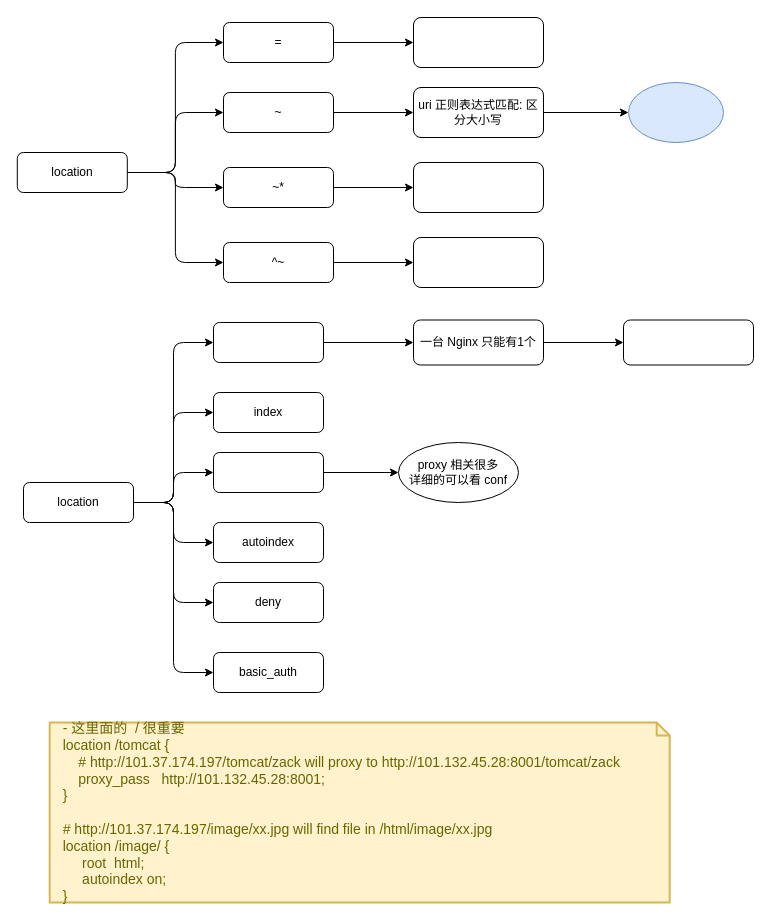
Some shapes in this 772 by 922 pixel diagram are drawn without their labels. The box of each missing label's shape, as (x1, y1, x2, y2) in pixels:
proxy_pass: (212, 452, 324, 492)
root: (212, 322, 324, 362)
uri reg 不区分大小写: (412, 162, 544, 212)
uri 完全匹配: (412, 16, 544, 68)
~(.*)\.avi$: (628, 82, 724, 142)
不包含 reg 前的 uri, 找到最高匹配度就执行: (412, 236, 544, 288)
想写多个: alias: (622, 319, 754, 365)
